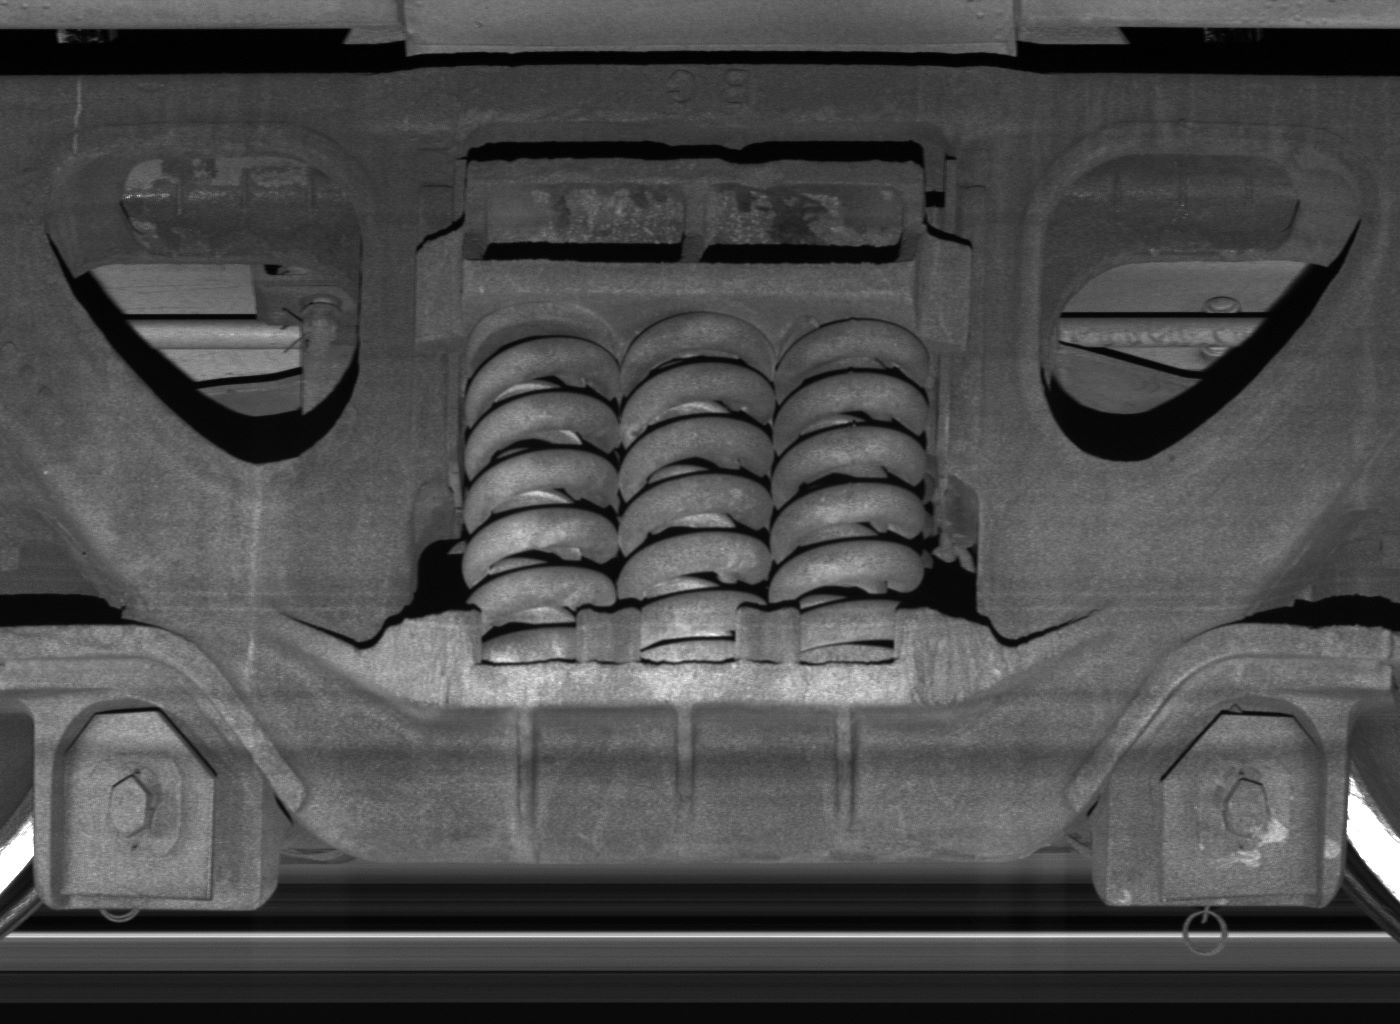normal: (1105, 690, 1348, 909), (32, 694, 262, 912)
